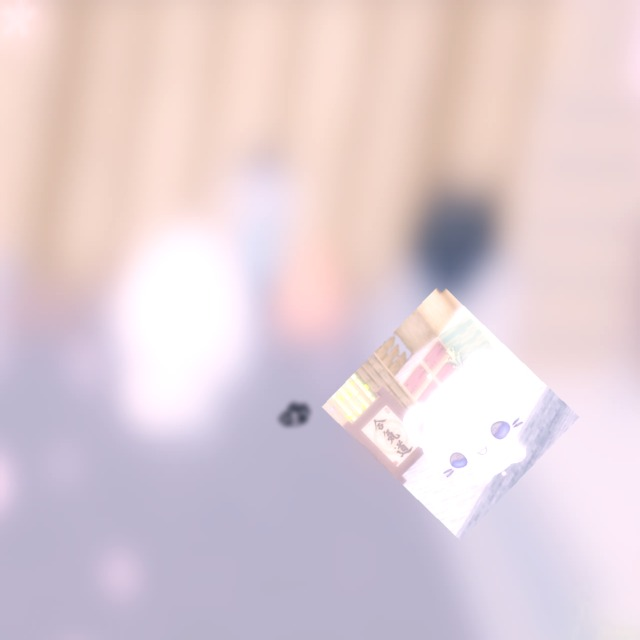urso_branco: (321, 283, 580, 541)
urso_preto: (272, 396, 314, 435)
